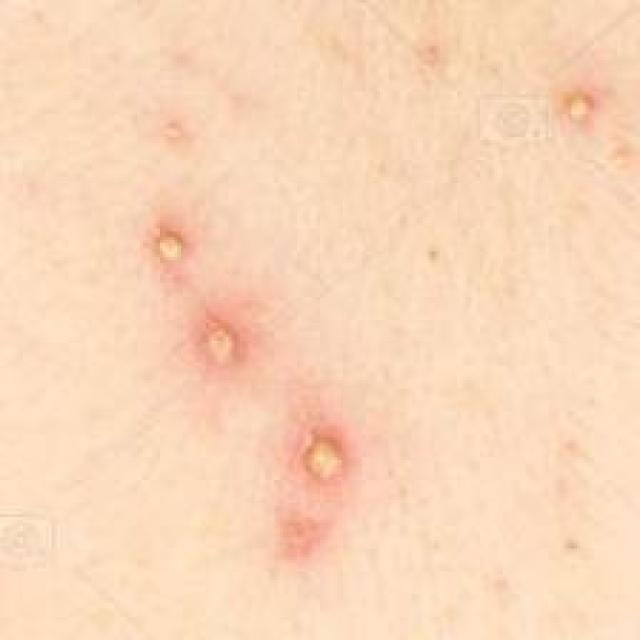others: (25, 19, 640, 580)
